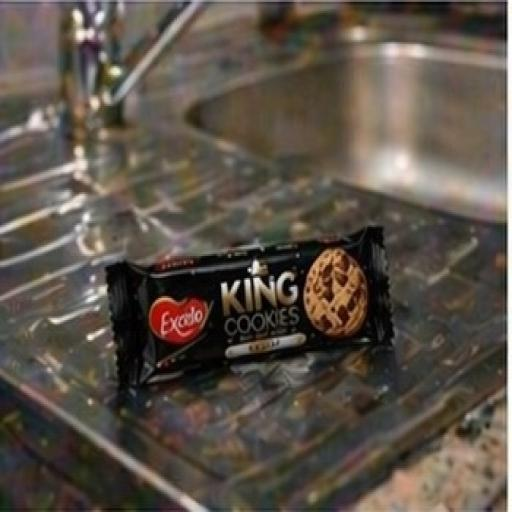king_cooking: (72, 199, 447, 446)
